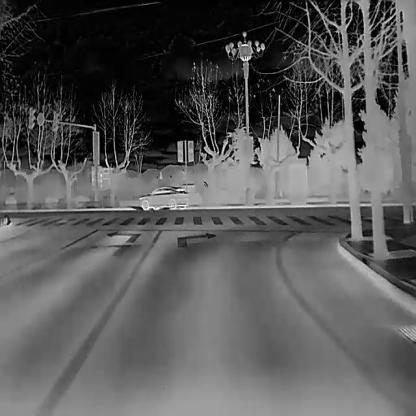car: (137, 185, 189, 211)
